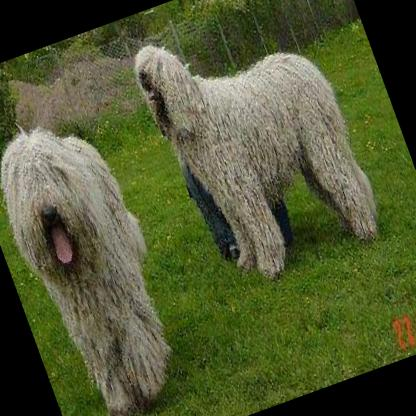komondor: (122, 0, 391, 298), (0, 89, 203, 415)
